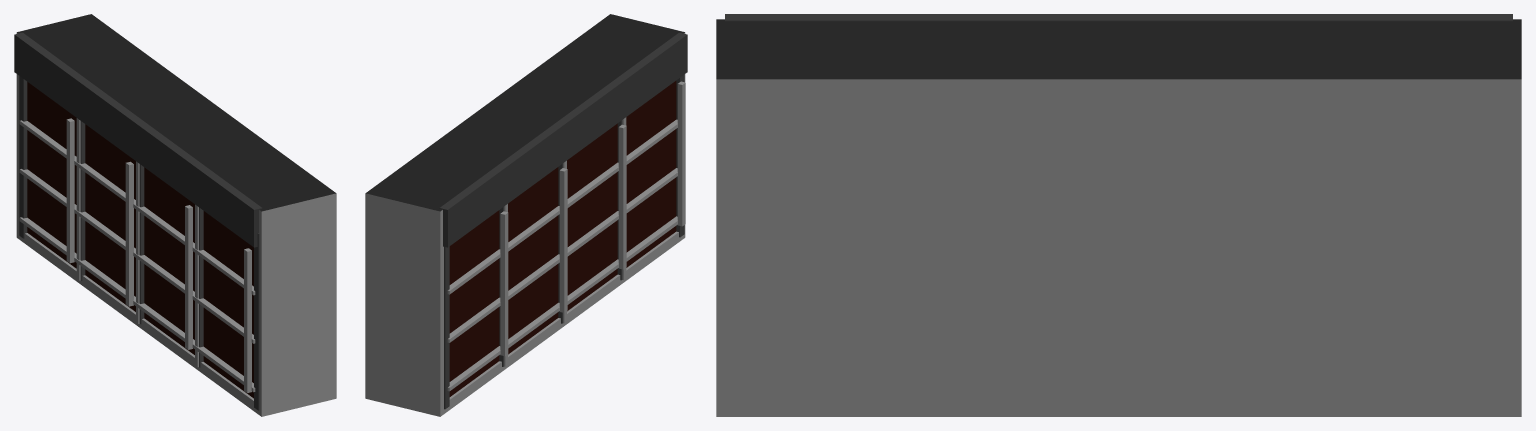
The model's file is huojia9.FBX.
The picture shows the model from 3 angles, left to right: view 1: azimuth 30°, elevation 25°; view 2: azimuth 150°, elevation 25°; view 3: azimuth 270°, elevation 25°; orthographic projection. The views are drawn at different scales.
Parts seen in each view (by area): view 1: huojia013, boli001; view 2: huojia013, boli001; view 3: huojia013.
Part boxes in pixels (<box>): huojia013: <box>14,14,336,416</box>; boli001: <box>27,82,253,398</box>; huojia013: <box>365,14,687,416</box>; boli001: <box>449,81,676,396</box>; huojia013: <box>716,14,1521,416</box>.
Bounding box in the file's own units: 145 × 347 × 747.
